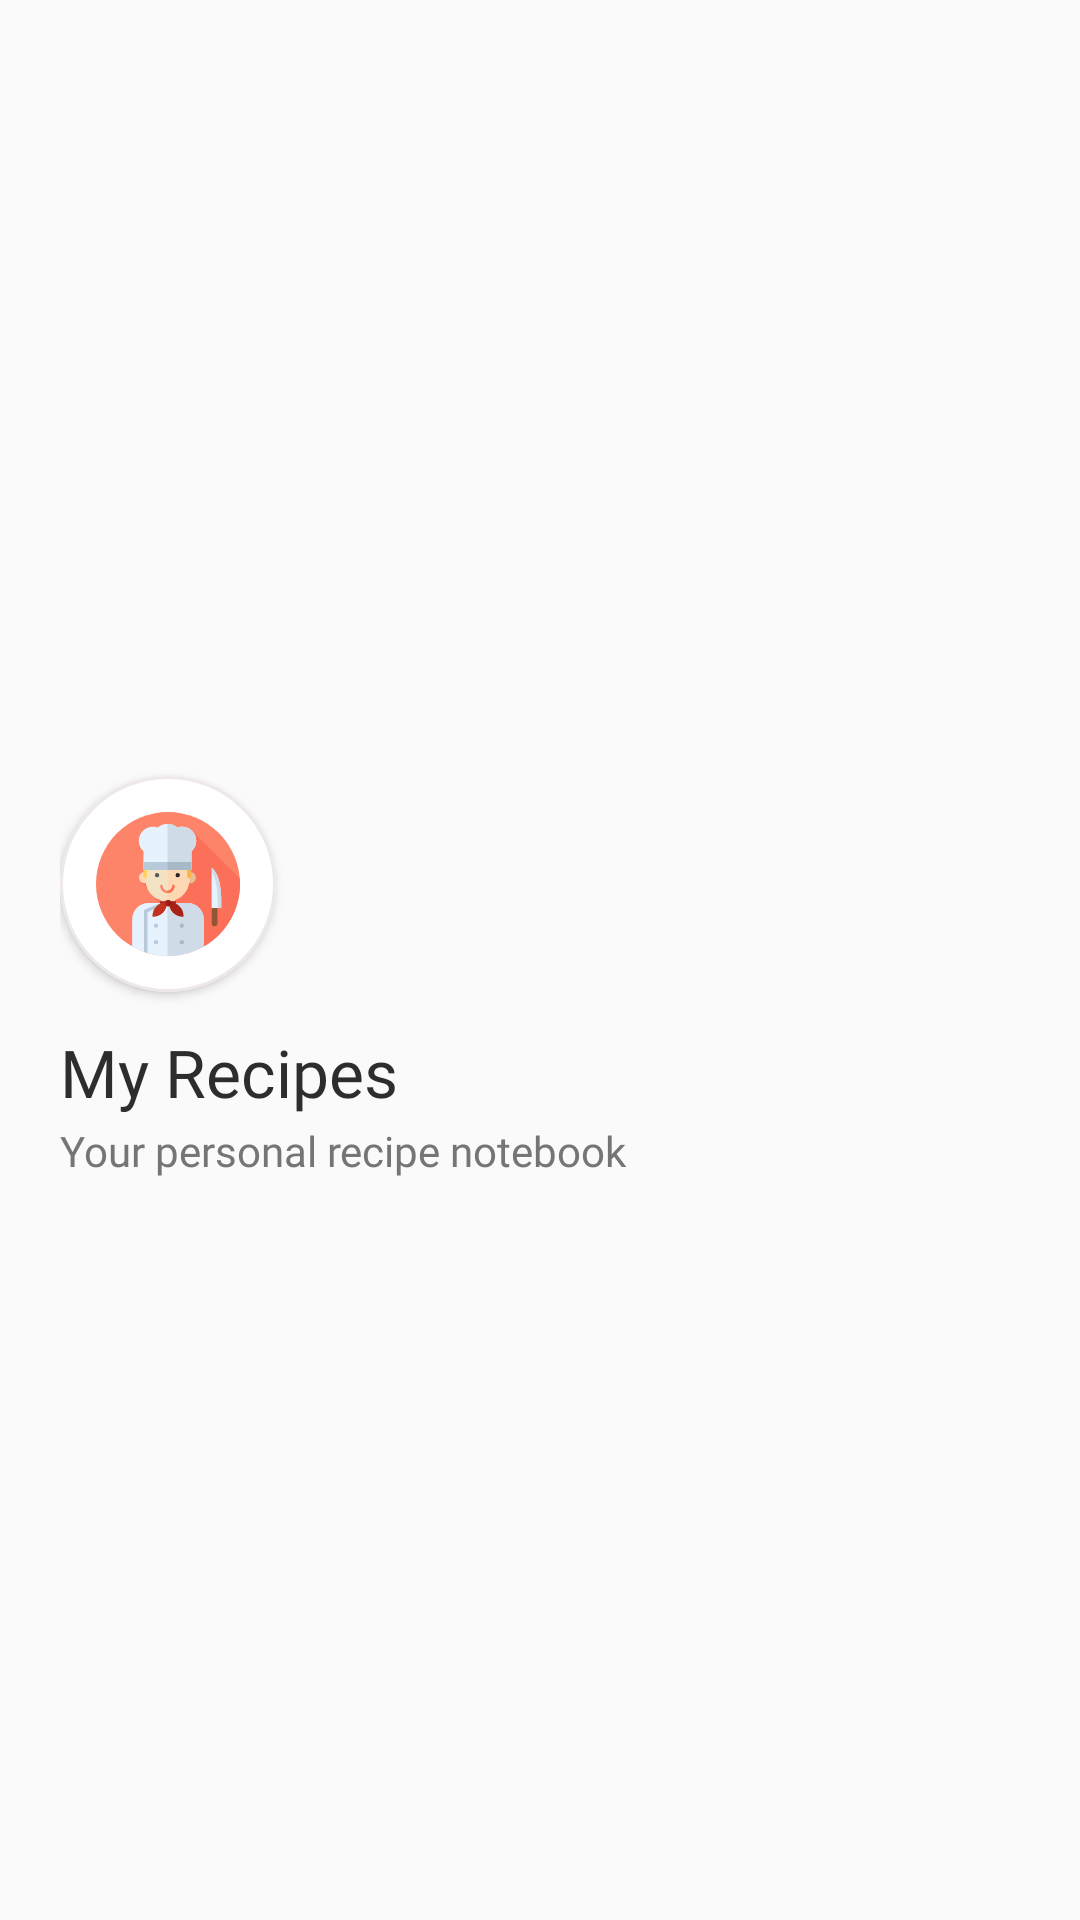

Where icons sit on this 1080w x 1920h app screen, as (left=x1, top=y1, right=x2, bottom=y2):
chef: (left=96, top=812, right=240, bottom=956)
